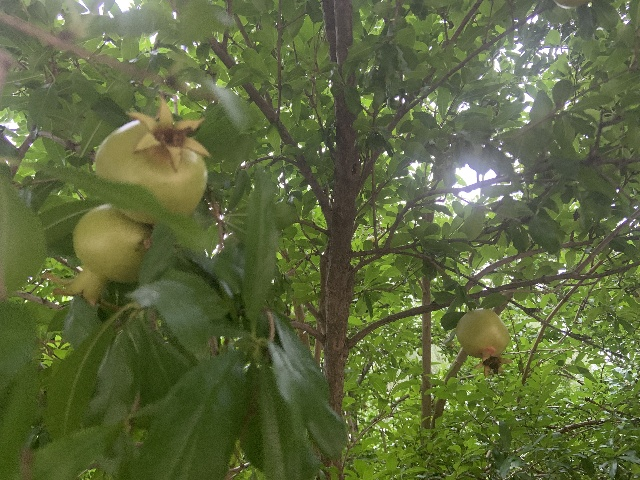mid-growth: (95, 96, 210, 225), (44, 205, 151, 306), (456, 308, 513, 378)
